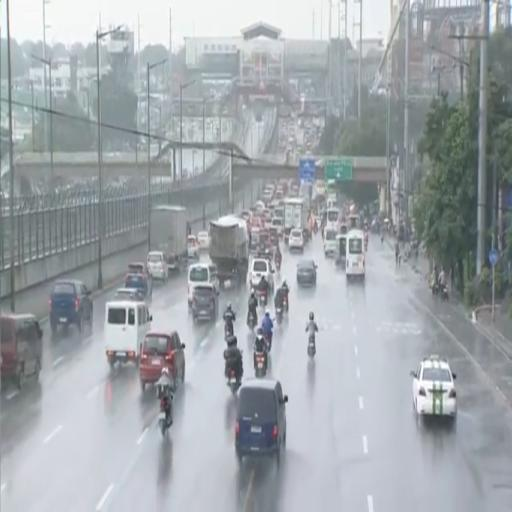bus: (346, 230, 365, 280)
car: (236, 378, 287, 462), (0, 314, 42, 389), (411, 356, 456, 420), (140, 331, 185, 391), (50, 280, 92, 332), (192, 284, 219, 321), (125, 263, 152, 297), (251, 259, 274, 290), (147, 251, 168, 281), (297, 260, 317, 285), (324, 228, 338, 257), (114, 288, 144, 301), (289, 229, 304, 251), (249, 228, 260, 252), (188, 235, 199, 259), (197, 231, 209, 250), (271, 218, 282, 236)
motorcycle: (158, 398, 172, 436), (227, 368, 241, 395), (255, 352, 266, 377), (307, 334, 315, 358), (224, 321, 234, 340), (440, 285, 449, 302), (275, 308, 283, 326), (264, 333, 272, 351), (259, 291, 267, 307), (248, 312, 255, 330), (282, 294, 289, 312), (275, 260, 281, 271)
truck: (210, 216, 249, 289), (150, 205, 187, 270), (283, 198, 309, 244)
